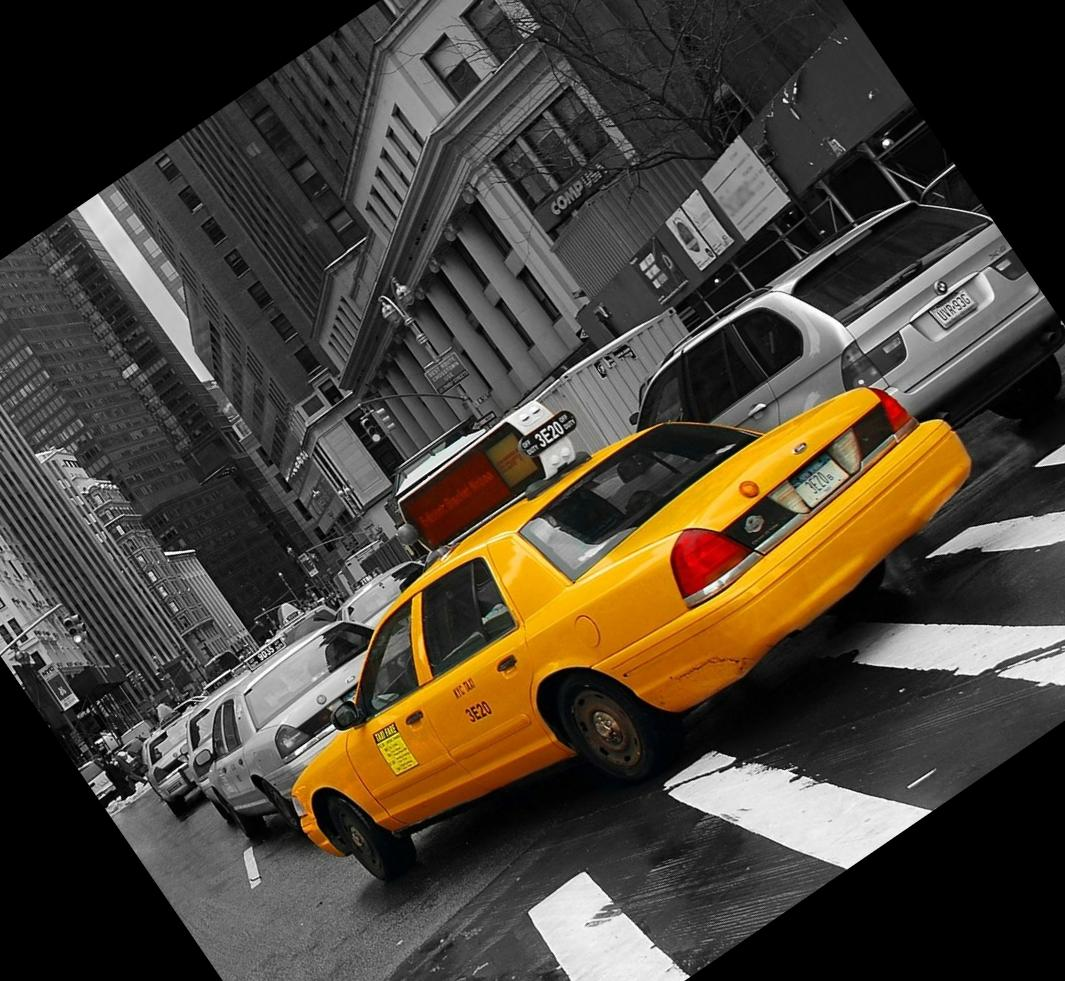taxi: (291, 354, 940, 909)
